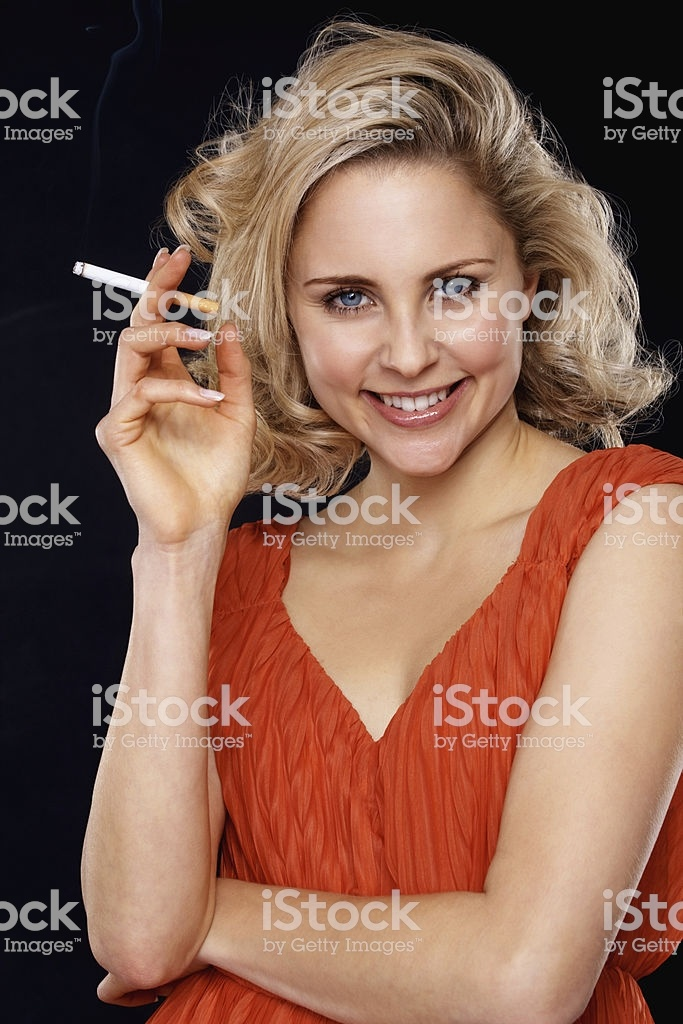sigaretta: (72, 260, 239, 314)
